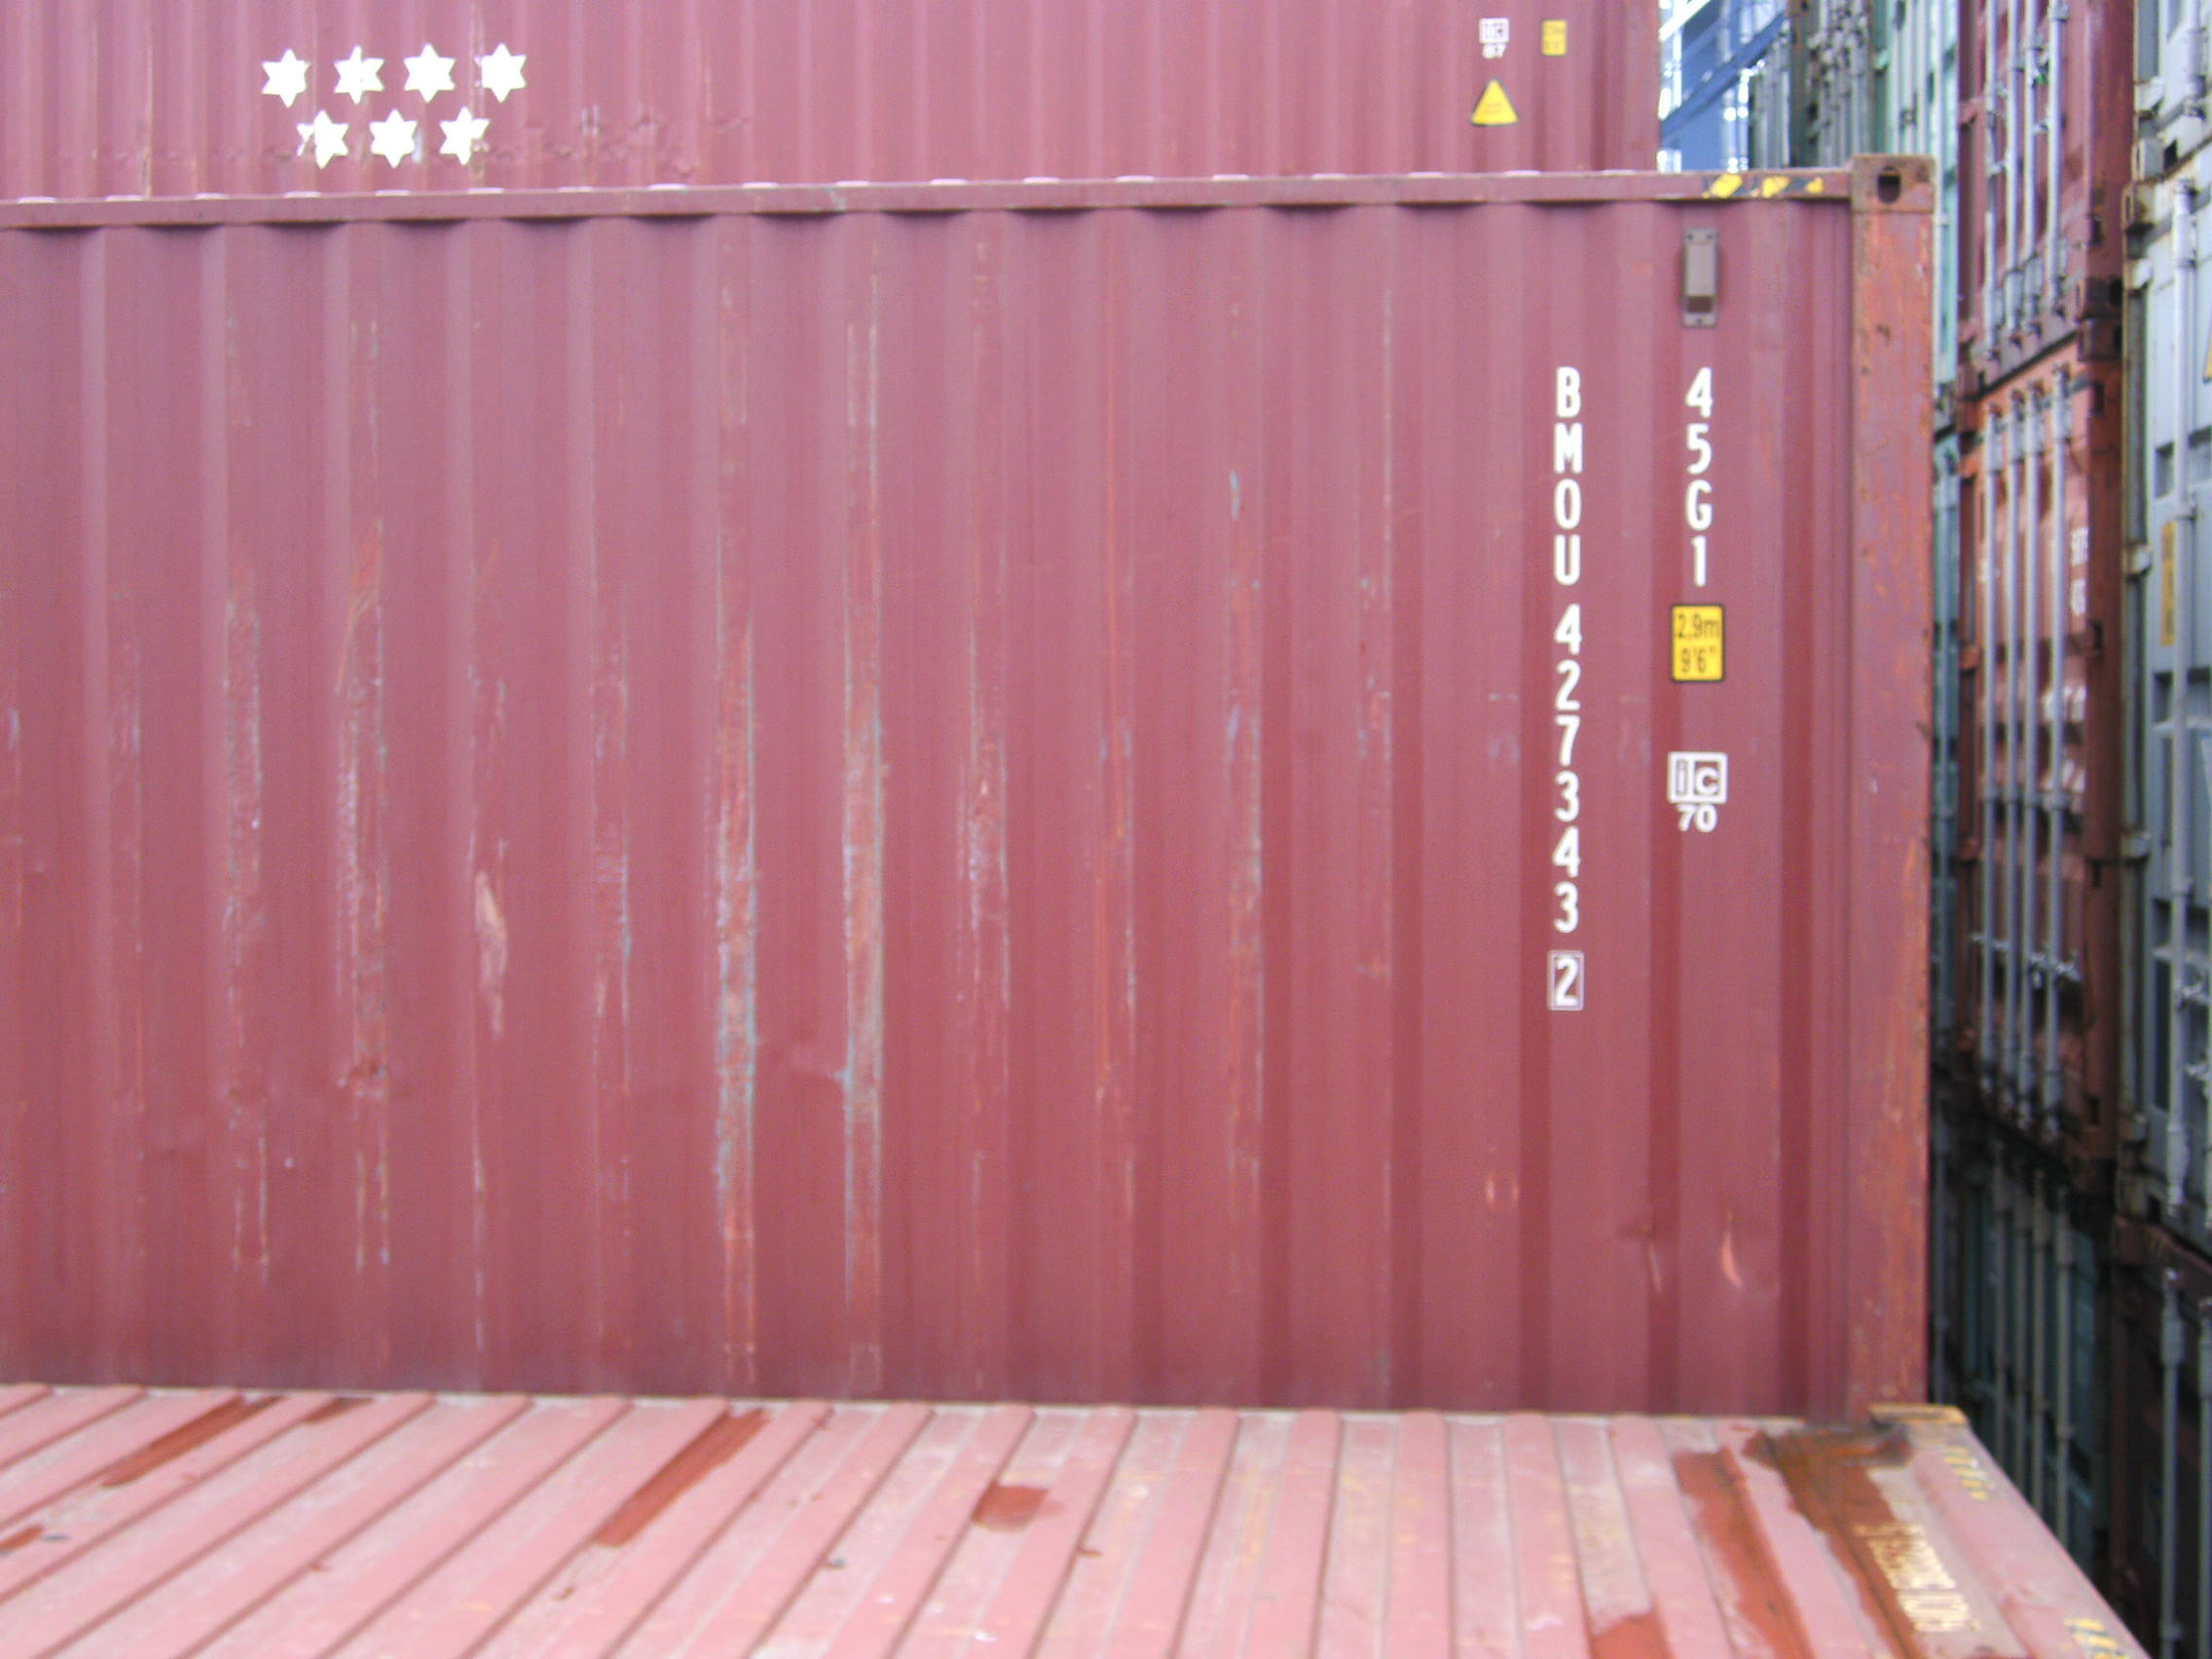container_no_door: (256, 173, 1944, 1396)
